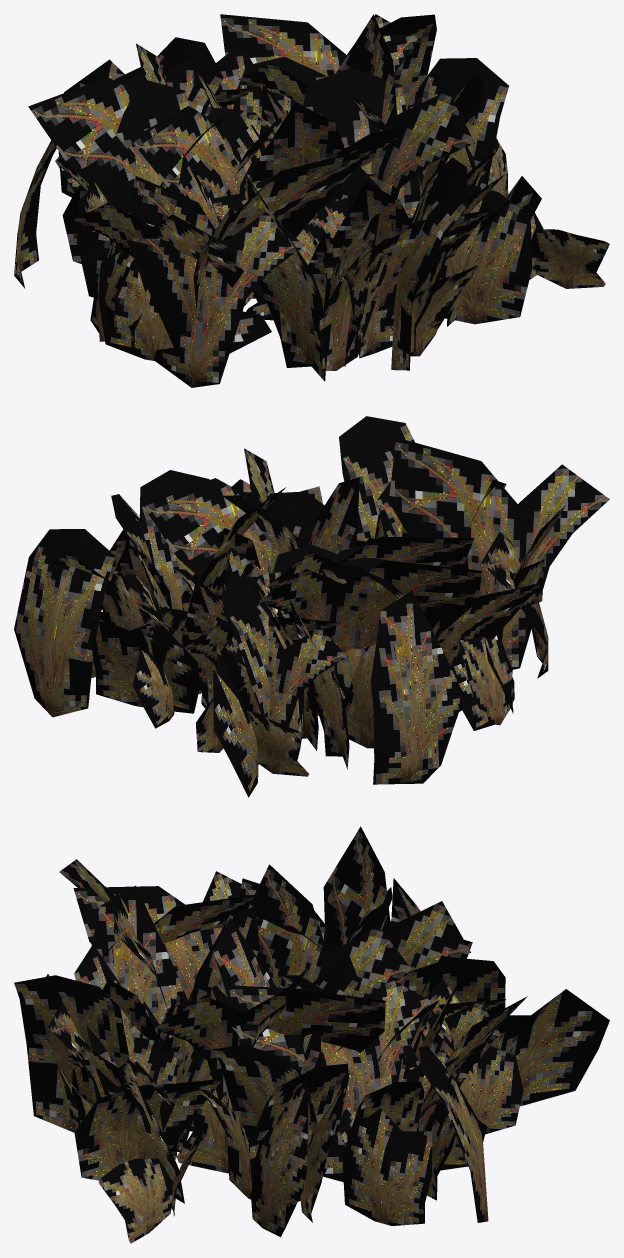
The model's file is grass-patch-c.glb.
3 renders of one model, top to bottom at view 1: azimuth 30°, elevation 25°; view 2: azimuth 150°, elevation 25°; view 3: azimuth 270°, elevation 25°, orthographic. The views are drawn at different scales.
Visible parts, largest first — view 1: grasspatch3; view 2: grasspatch3; view 3: grasspatch3.
Part boxes in pixels (<box>): grasspatch3: <box>14,14,609,387</box>; grasspatch3: <box>14,416,609,797</box>; grasspatch3: <box>14,826,609,1243</box>.
Bounding box in the file's own units: 288 × 129 × 326.
1 material, 1 textured.
